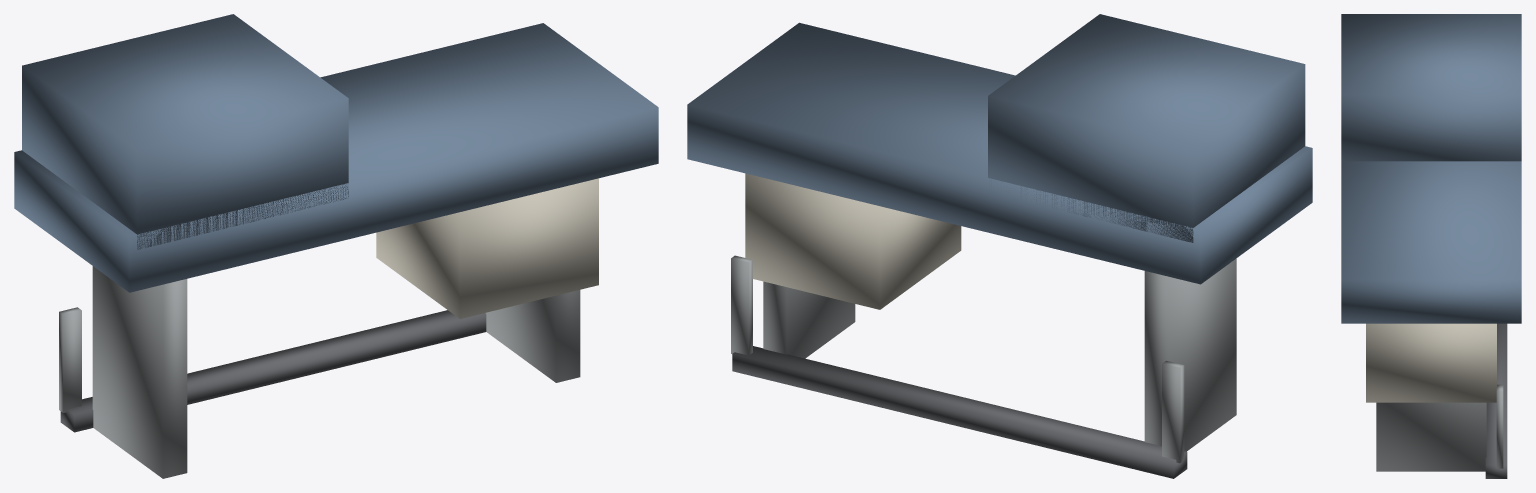
Rendered from exam_table__reinforced.glb.
The picture shows the model from 3 angles, left to right: view 1: azimuth 30°, elevation 25°; view 2: azimuth 150°, elevation 25°; view 3: azimuth 270°, elevation 25°; orthographic projection. The views are drawn at different scales.
Visible parts, largest first — view 1: world; view 2: world; view 3: world.
Boxes of the visible parts, <box> form: world: <box>14,14,658,478</box>; world: <box>687,14,1312,478</box>; world: <box>1341,14,1521,478</box>.
Bounding box in the file's own units: 1.8 × 1.16 × 0.6798.
